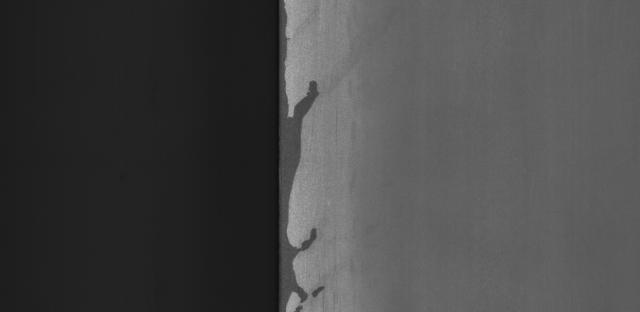water_spot: (254, 3, 339, 312)
